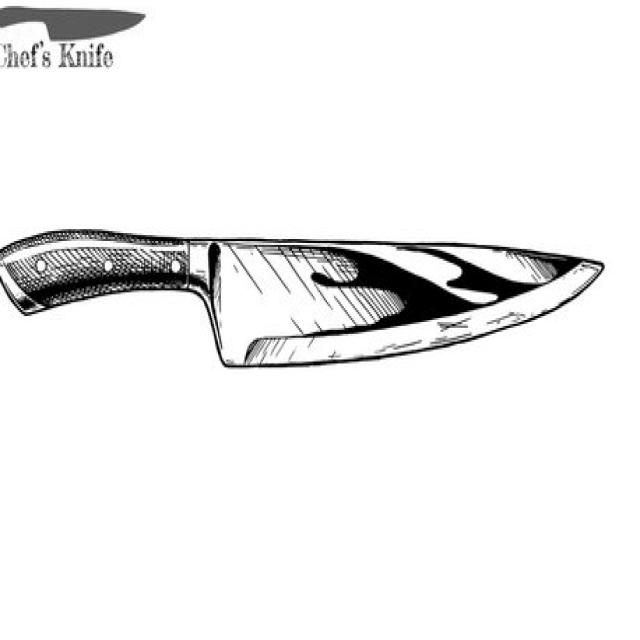Weapon: (0, 229, 601, 365)
